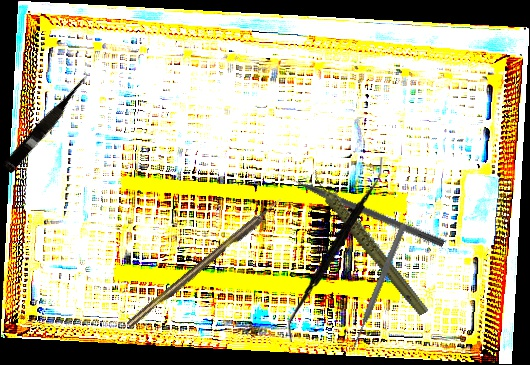Handpiece: (310, 151, 430, 332)
Hook Surgical: (124, 196, 286, 330)
Micro Scissor: (1, 72, 94, 176)
Pusher: (276, 168, 446, 248), (348, 222, 408, 353)
Spatula Surgical: (281, 157, 392, 342)
